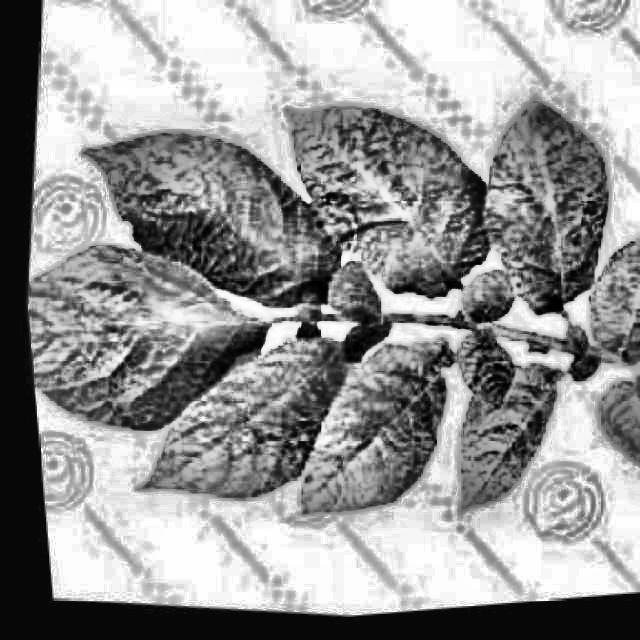plants: (3, 15, 639, 597)
